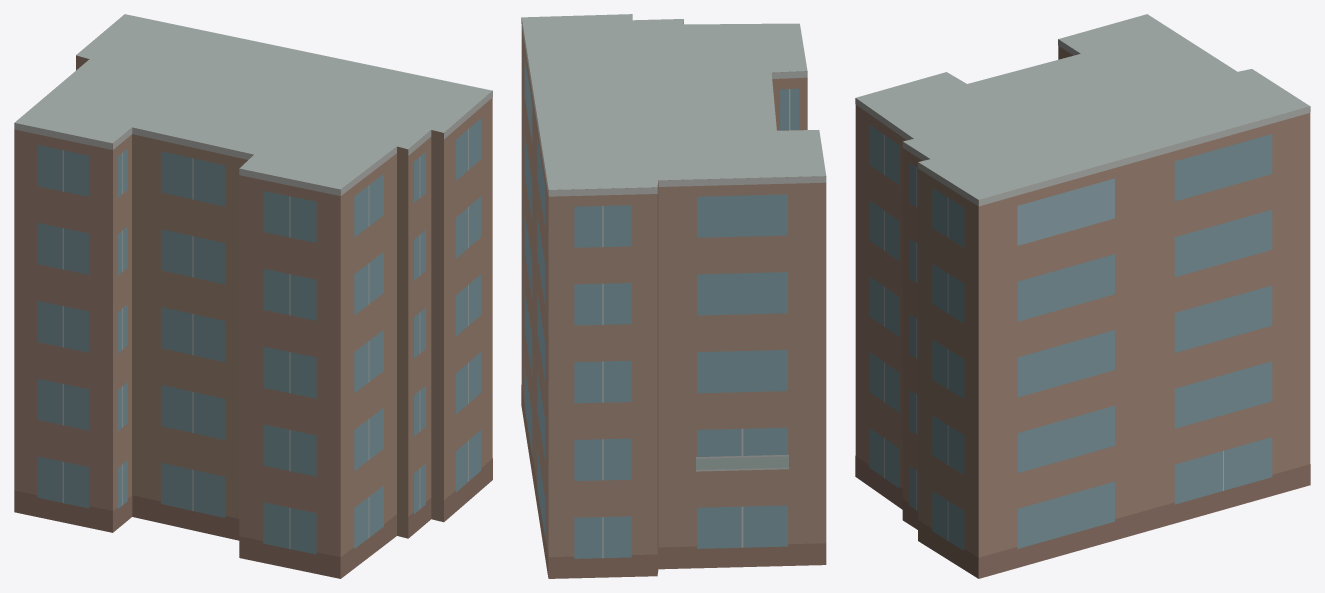
Rendered from survey-upis-32983586.glb.
The picture shows the model from 3 angles, left to right: view 1: azimuth 30°, elevation 25°; view 2: azimuth 150°, elevation 25°; view 3: azimuth 270°, elevation 25°; orthographic projection. The views are drawn at different scales.
Visible parts, largest first — view 1: survey-upis-32983586.tmp; view 2: survey-upis-32983586.tmp; view 3: survey-upis-32983586.tmp.
Part boxes in pixels (x1,y1,x2,y2): survey-upis-32983586.tmp: (14, 14, 492, 578); survey-upis-32983586.tmp: (521, 14, 826, 578); survey-upis-32983586.tmp: (855, 14, 1310, 578).
Size of the model in its own units: 15.04 by 14.28 by 15.55.
